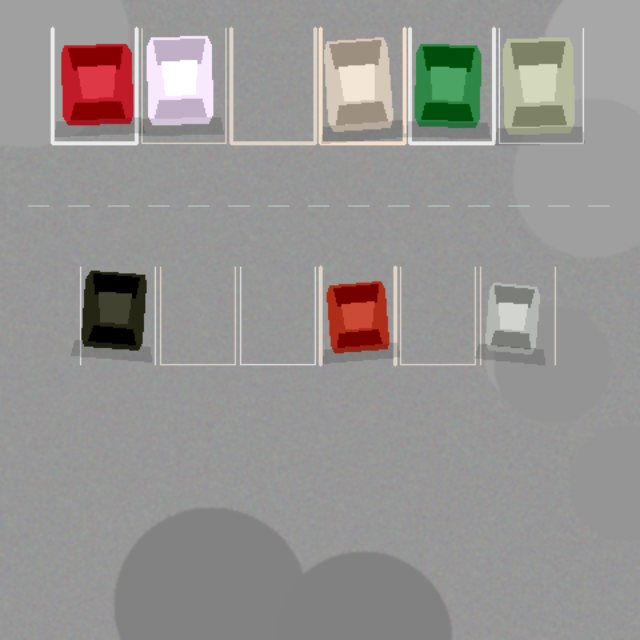space-empty: (231, 28, 315, 143), (160, 267, 235, 364), (240, 267, 315, 364), (400, 267, 475, 364)
space-occupied: (52, 28, 136, 143), (141, 28, 225, 143), (320, 28, 404, 143), (409, 28, 493, 143), (499, 28, 583, 143), (80, 267, 155, 364), (320, 267, 395, 364), (480, 267, 555, 364)
